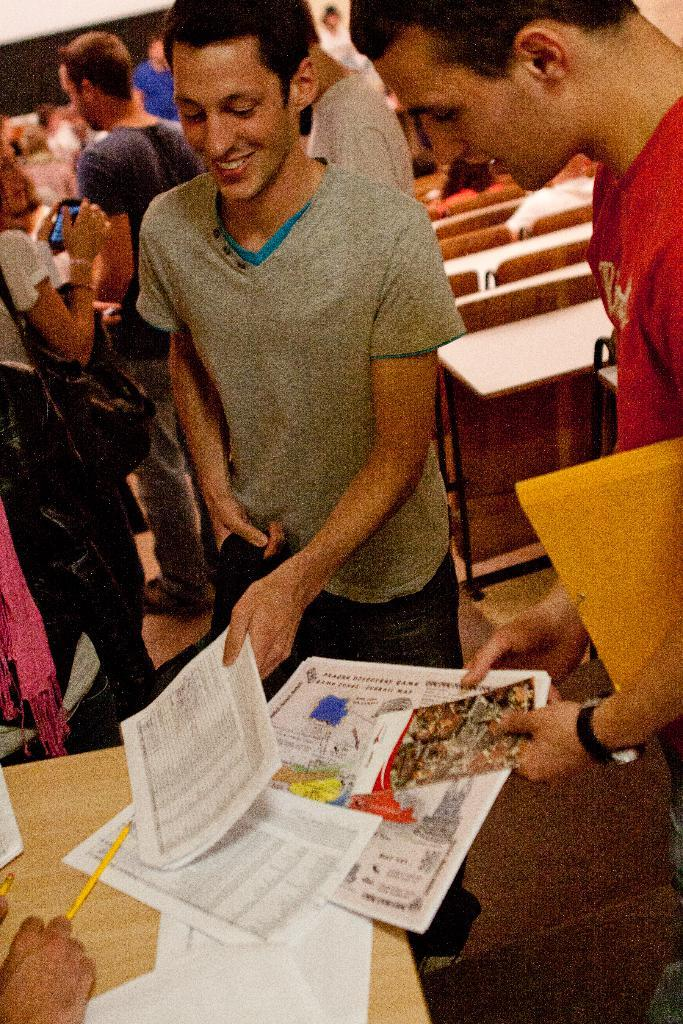no_helmet: (326, 0, 540, 136), (222, 5, 328, 124)
none: (191, 155, 450, 636), (422, 40, 576, 732)
